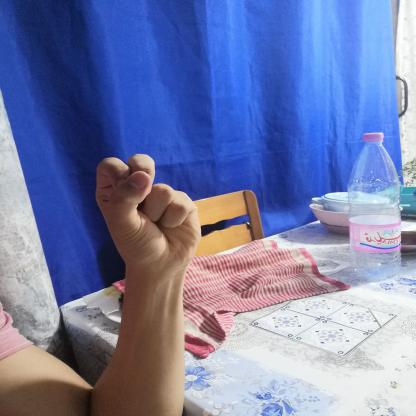QAAF: (76, 145, 218, 283)
